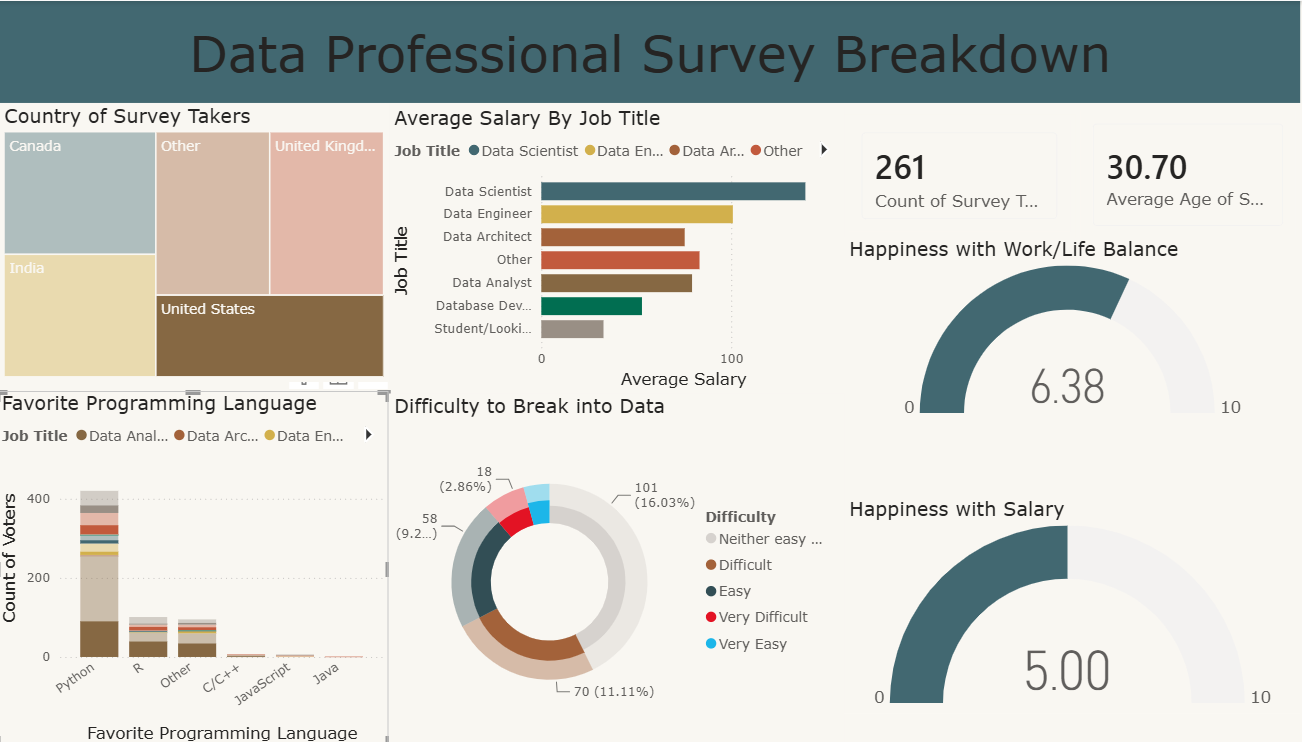

The page's visual inventory and layout, read from the dashboard file:
{"tool":"powerbi","page":{"name":"Page 1","canvas":[1280,720],"ordinal":0},"visuals":[{"type":"textbox","box":[9.6,0,1257,98.8],"z":0},{"type":"cardVisual","fields":{"Data":["Count(Data Professional Survey.Unique ID)"]},"box":[825.2,109.8,223.2,118.2],"z":1000},{"type":"cardVisual","fields":{"Data":["Avg(Data Professional Survey.Q10 - Current Age)"]},"box":[1048.4,101.3,218.4,133.9],"z":2000},{"type":"barChart","title":"Average Salary By Job Title","fields":{"Category":["Data Professional Survey.Q1 - Which Title Best Fits your Current Role?.1"],"Y":["Avg(Data Professional Survey.Average Salary)"],"Series":["Data Professional Survey.Q1 - Which Title Best Fits your Current Role?.1"]},"box":[386.1,101.3,439.1,277.5],"z":3000},{"type":"columnChart","title":"Favorite Programming Language","fields":{"Category":["Data Professional Survey.Q5 - Favorite Programming Language.1"],"Y":["CountNonNull(Data Professional Survey.Unique ID)"],"Series":["Data Professional Survey.Q1 - Which Title Best Fits your Current Role?.1"]},"box":[7.2,376.4,378.8,343.8],"z":4000},{"type":"treemap","title":"Country of Survey Takers","fields":{"Group":["Data Professional Survey.Q11 - Which Country do you live in?.1"],"Values":["Count(Data Professional Survey.Q11 - Which Country do you live in?.1)"]},"box":[9.7,98.9,376.4,269],"z":5000},{"type":"gauge","title":"Happiness with Work/Life Balance","fields":{"Y":["Avg(Data Professional Survey.Q6 - How Happy are you in your Current Position with the following? (Work/Life Balance))"],"MinValue":["Min(Data Professional Survey.Q6 - How Happy are you in your Current Position with the following? (Work/Life Balance))"],"MaxValue":["Max(Data Professional Survey.Q6 - How Happy are you in your Current Position with the following? (Work/Life Balance))1"]},"box":[825.2,228,441.6,179.8],"z":5001},{"type":"gauge","title":"Happiness with Salary","fields":{"Y":["Avg(Data Professional Survey.Q6 - How Happy are you in your Current Position with the following? (Salary))"],"MinValue":["Min(Data Professional Survey.Q6 - How Happy are you in your Current Position with the following? (Salary))"],"MaxValue":["Max(Data Professional Survey.Q6 - How Happy are you in your Current Position with the following? (Salary))1"]},"box":[825.2,479,441.6,208.7],"z":5002},{"type":"donutChart","title":"Difficulty to Break into Data","fields":{"Category":["Data Professional Survey.Q7 - How difficult was it for you to break into Data?"],"Y":["CountNonNull(Data Professional Survey.Q7 - How difficult was it for you to break into Data?)"]},"box":[386.1,378.8,439.1,341.4],"z":5003}]}

Visuals, with their boxes in screenshot pixels (x1, y1, x2, y2), scaled from the page's 1280x720 canvas onto the 1302x742 screenshot:
textbox: Rect(10, 0, 1288, 102)
cardVisual - Count(Data Professional Survey.Unique ID): Rect(839, 113, 1066, 235)
cardVisual - Avg(Data Professional Survey.Q10 - Current Age): Rect(1066, 104, 1289, 242)
"Average Salary By Job Title" barChart: Rect(393, 104, 839, 390)
"Favorite Programming Language" columnChart: Rect(7, 388, 393, 741)
"Country of Survey Takers" treemap: Rect(10, 102, 393, 379)
"Happiness with Work/Life Balance" gauge: Rect(839, 235, 1289, 420)
"Happiness with Salary" gauge: Rect(839, 494, 1289, 709)
"Difficulty to Break into Data" donutChart: Rect(393, 390, 839, 741)
